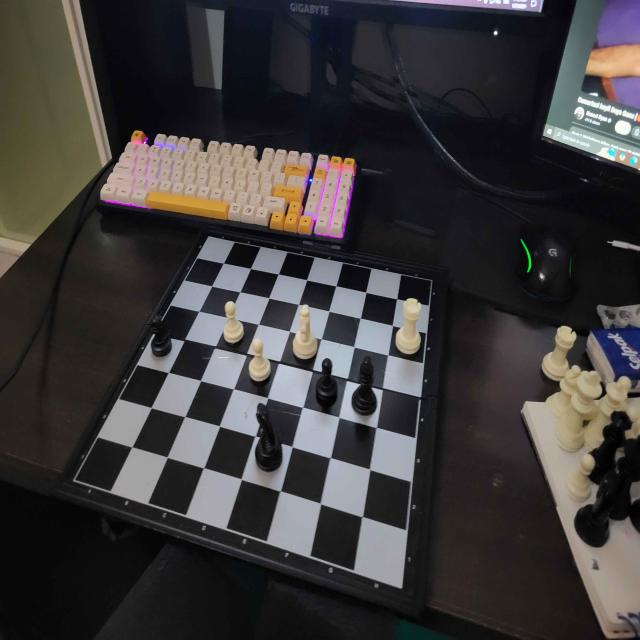black-knight: (254, 401, 284, 474)
black-pawn: (315, 355, 339, 407), (149, 313, 175, 356)
chess-board: (70, 228, 447, 607)
white-knight: (292, 302, 318, 361)
white-pawn: (566, 452, 598, 502), (222, 298, 245, 349), (247, 336, 270, 384)
white-rook: (540, 323, 578, 381), (393, 296, 424, 356)
